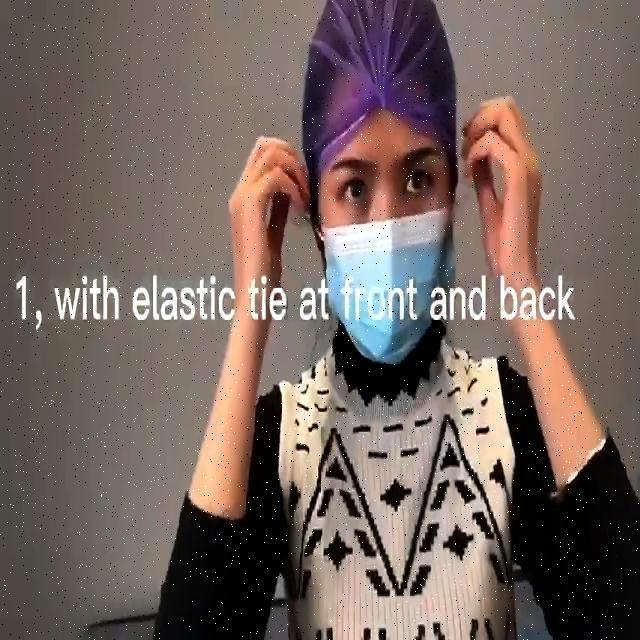gloves: (288, 0, 464, 144)
mask: (320, 220, 457, 358)
no_apron: (209, 126, 313, 311), (468, 85, 558, 292)
